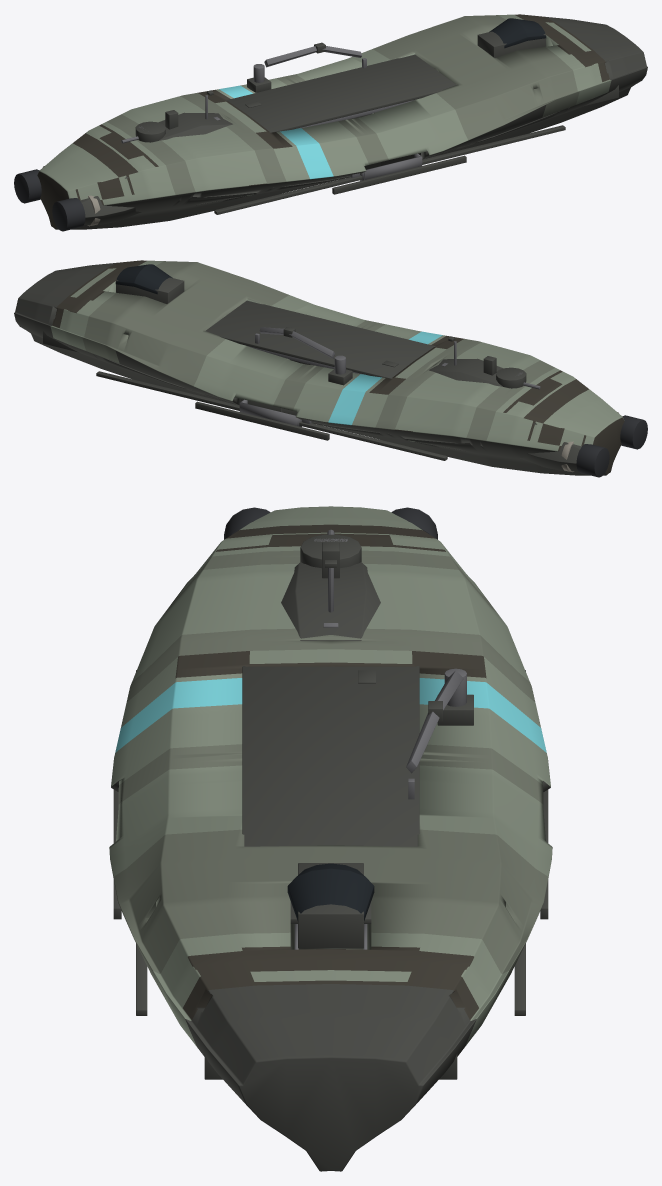
File: mule_c1_lod2.glb
3 views of the same model, one above another, from view 1: azimuth 30°, elevation 25°; view 2: azimuth 150°, elevation 25°; view 3: azimuth 270°, elevation 25° (orthographic). The views are drawn at different scales.
Visible parts, largest first — view 1: LOD0_Hull, LOD0_AftHouse, LOD0_AftWalk, LOD0_Canopy, LOD0_Bell_Port, LOD0_Bell_Starboard; view 2: LOD0_Hull, LOD0_AftHouse, LOD0_AftWalk, LOD0_Canopy, LOD0_Bell_Starboard, LOD0_Bell_Port; view 3: LOD0_Hull, LOD0_AftHouse, LOD0_Canopy, LOD0_AftWalk.
Part boxes in pixels (bbox=[...]): LOD0_Hull: bbox=[37, 14, 647, 229]; LOD0_AftHouse: bbox=[80, 31, 545, 225]; LOD0_AftWalk: bbox=[121, 46, 422, 180]; LOD0_Canopy: bbox=[489, 18, 546, 48]; LOD0_Bell_Port: bbox=[52, 198, 85, 231]; LOD0_Bell_Starboard: bbox=[14, 169, 41, 203]; LOD0_Hull: bbox=[14, 260, 624, 475]; LOD0_AftHouse: bbox=[116, 277, 581, 471]; LOD0_AftWalk: bbox=[239, 327, 540, 426]; LOD0_Canopy: bbox=[115, 264, 172, 294]; LOD0_Bell_Starboard: bbox=[576, 444, 609, 477]; LOD0_Bell_Port: bbox=[620, 415, 647, 449]; LOD0_Hull: bbox=[109, 506, 552, 1171]; LOD0_AftHouse: bbox=[113, 534, 548, 948]; LOD0_Canopy: bbox=[287, 863, 374, 920]; LOD0_AftWalk: bbox=[294, 529, 466, 949].
Size of what is drawn, in the model's own units: 16.76 by 3.15 by 5.5.
